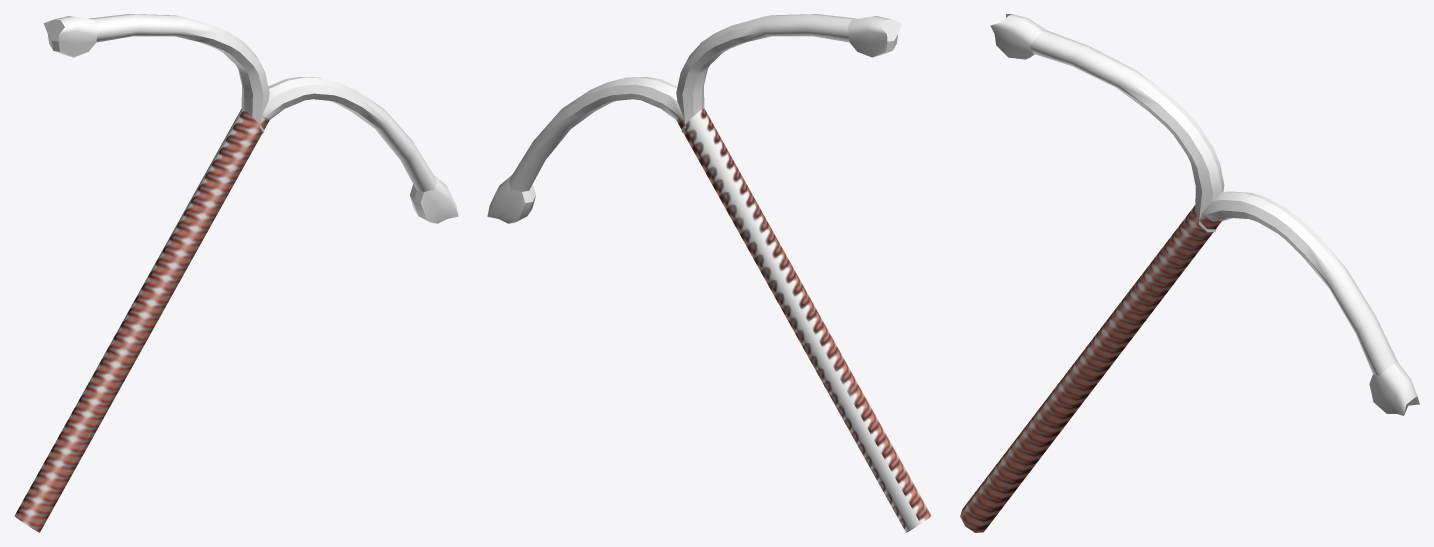
The picture shows the model from 3 angles, left to right: view 1: azimuth 30°, elevation 25°; view 2: azimuth 150°, elevation 25°; view 3: azimuth 330°, elevation 25°; orthographic projection. The views are drawn at different scales.
Parts seen in each view (by area): view 1: t; view 2: t; view 3: t.
Boxes of the visible parts, x1=… form: t: x1=14, y1=14, x2=458, y2=532; t: x1=487, y1=14, x2=931, y2=532; t: x1=960, y1=14, x2=1419, y2=532.
Bounding box in the file's own units: 44.83 × 49.6 × 2.79.
1 material, 1 textured.
